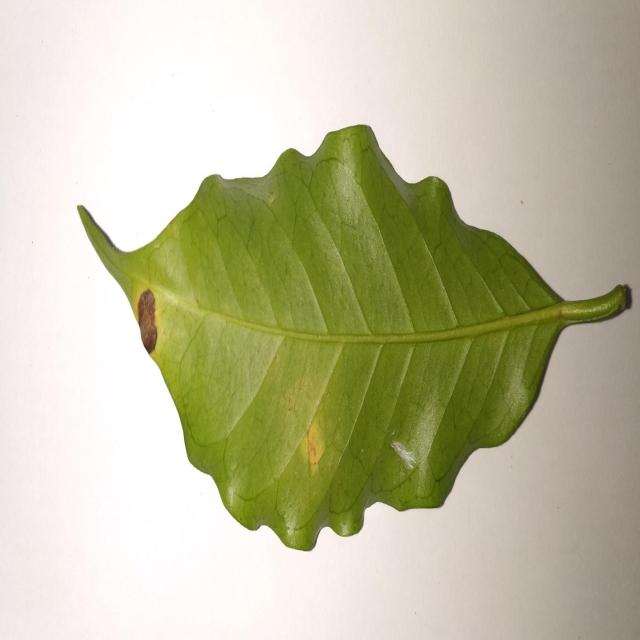Enfermedad-Mancha-de-hierro: (77, 125, 633, 555)
